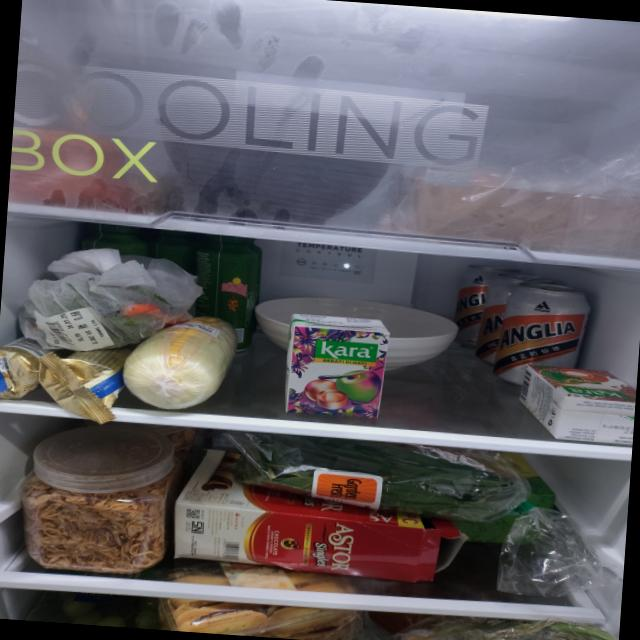coconut_milk: (282, 314, 392, 419), (514, 362, 637, 446)
corn: (120, 309, 242, 414)
leafy_greens: (235, 430, 521, 526)
